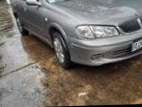car: (8, 0, 142, 70)
